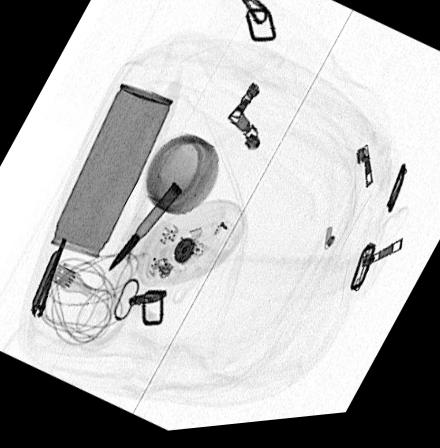Bullet: (106, 183, 183, 275)
